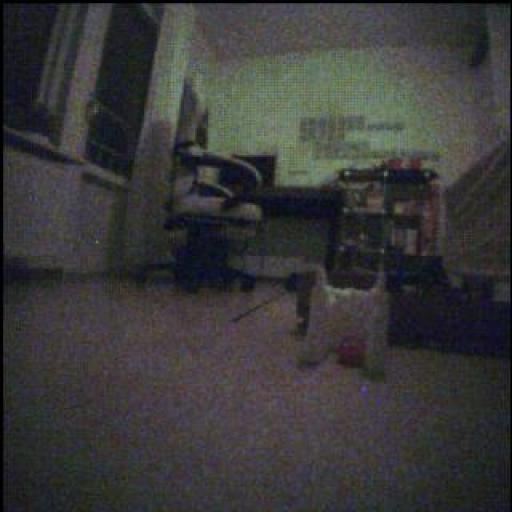basket: (339, 345, 366, 367), (388, 160, 404, 173), (411, 160, 424, 173)
